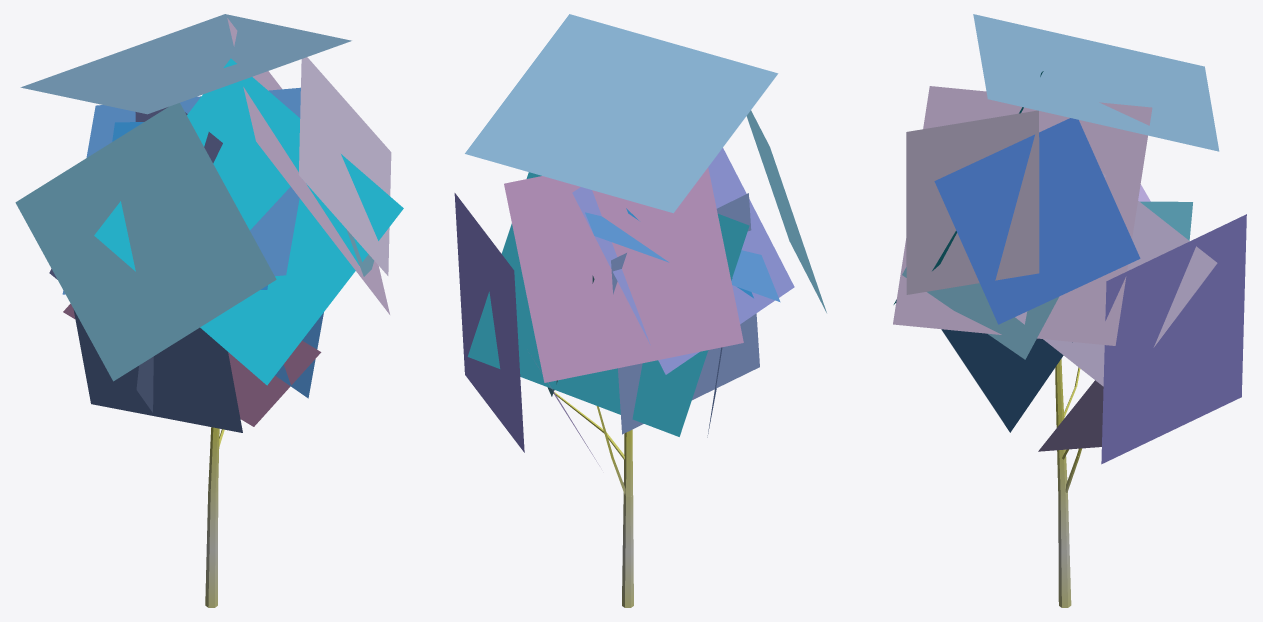
Rendered from tree_aspen_2.glb.
3 views of the same model, side by side, from view 1: azimuth 30°, elevation 25°; view 2: azimuth 150°, elevation 25°; view 3: azimuth 270°, elevation 25° (orthographic). The views are drawn at different scales.
Visible parts, largest first — view 1: tree_aspen_2; view 2: tree_aspen_2; view 3: tree_aspen_2.
Boxes of the visible parts, <box> form: tree_aspen_2: <box>15,14,403,607</box>; tree_aspen_2: <box>454,14,826,607</box>; tree_aspen_2: <box>893,14,1246,607</box>.
Size of the model in its own units: 7.78 by 11.78 by 7.57.
